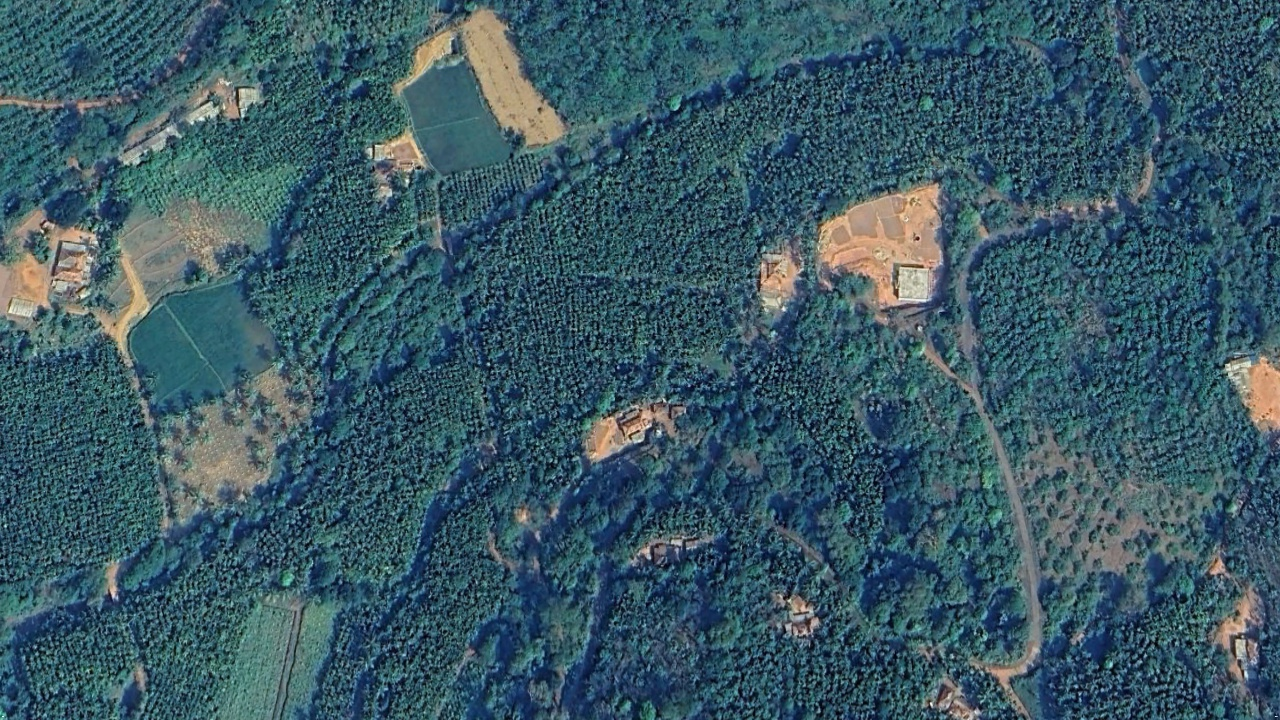arecanut: (8, 360, 140, 555), (525, 217, 709, 348), (774, 83, 957, 162), (44, 627, 209, 694), (978, 69, 1066, 185)
